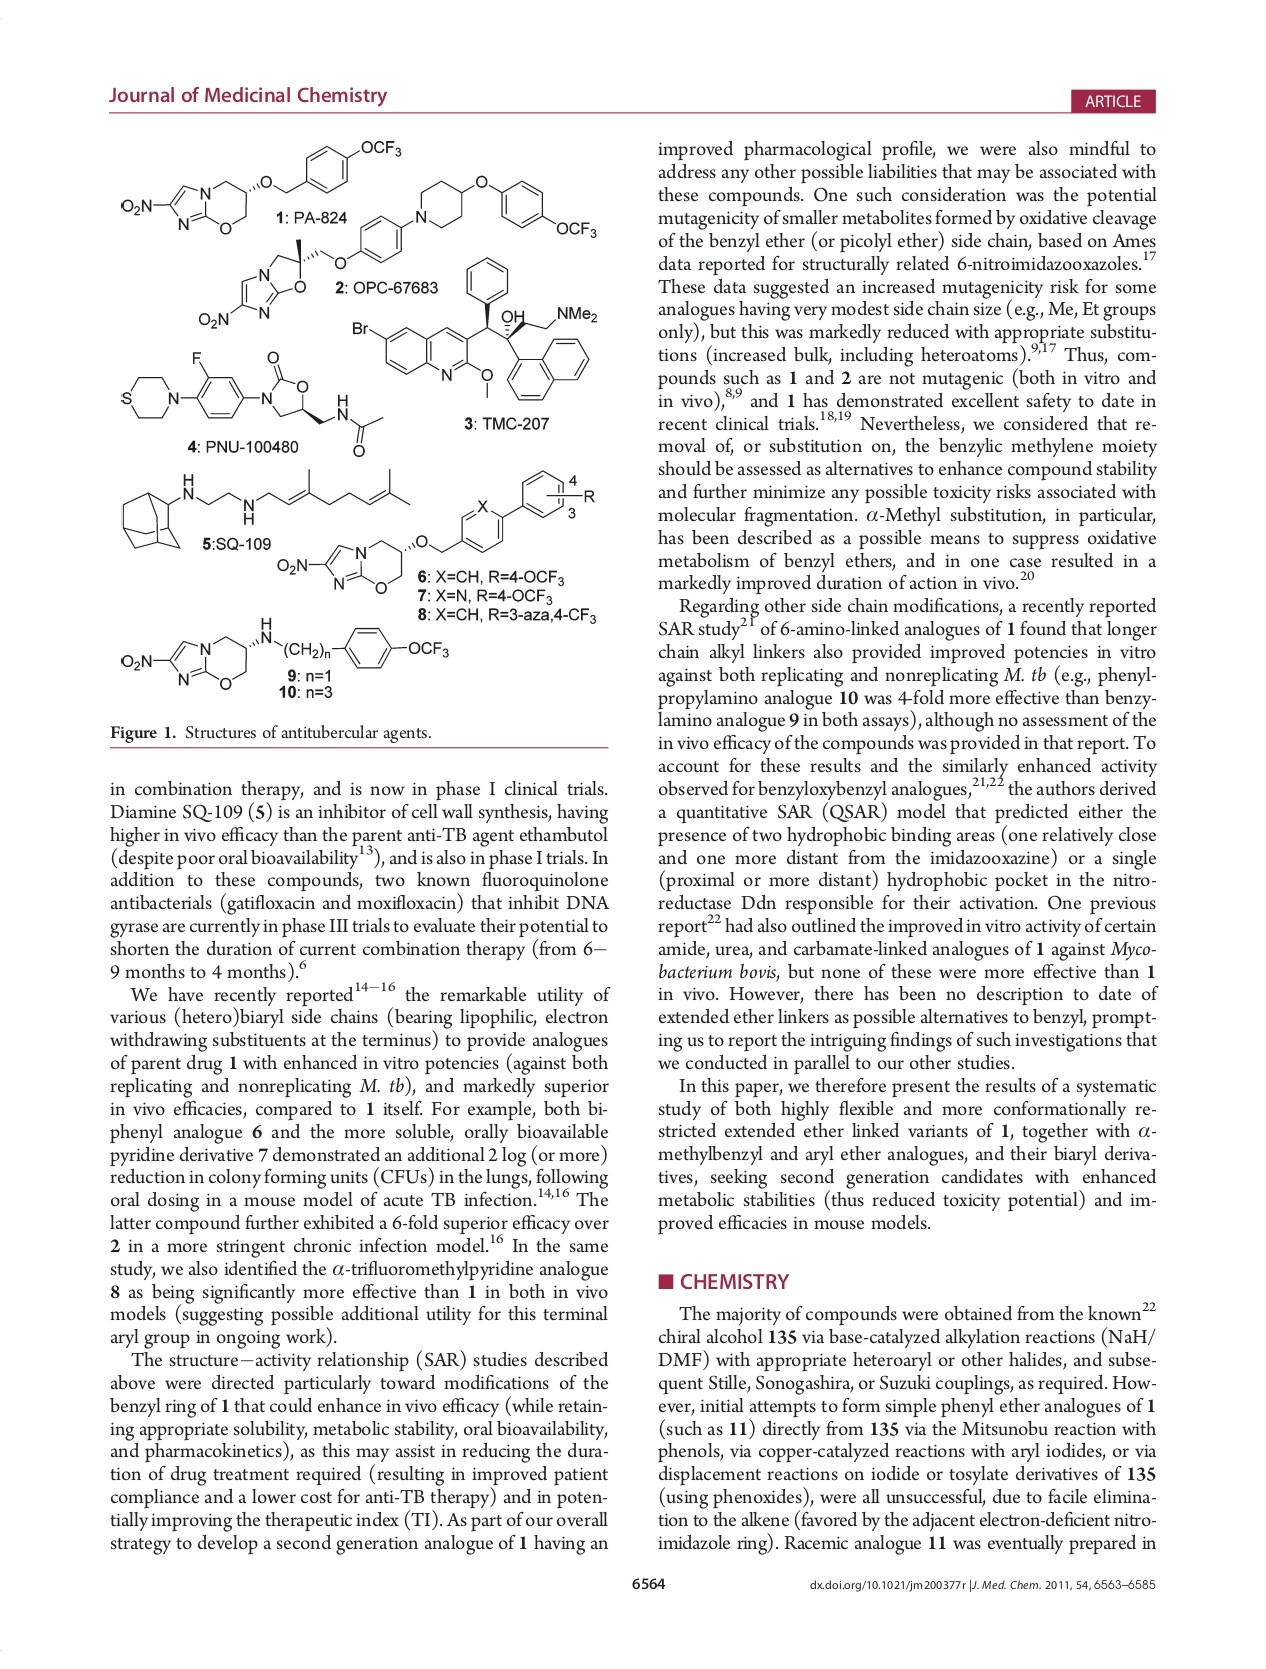exist_molecular: (195, 176, 598, 331), (277, 468, 598, 596), (352, 255, 600, 403), (120, 347, 386, 457), (118, 137, 402, 235), (118, 614, 451, 693), (118, 465, 411, 551)
